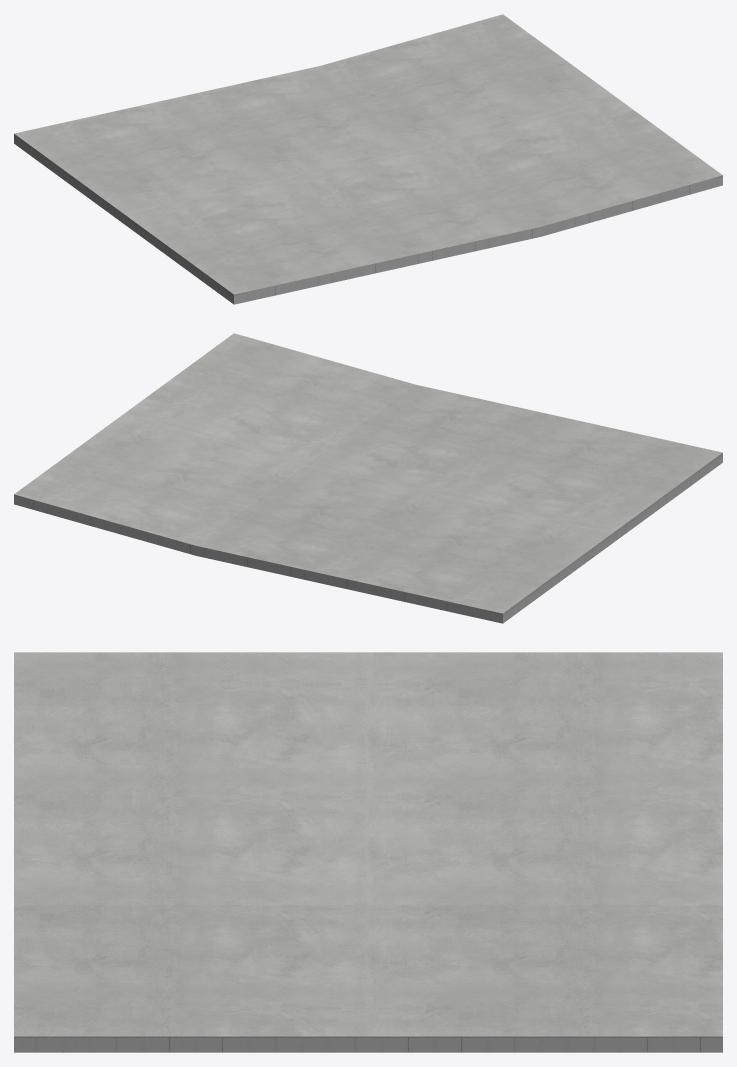
The model's file is PD1-ROOF.glb.
3 renders of one model, top to bottom at view 1: azimuth 30°, elevation 25°; view 2: azimuth 150°, elevation 25°; view 3: azimuth 270°, elevation 25°, orthographic. The views are drawn at different scales.
Visible parts, largest first — view 1: Polyline; view 2: Polyline; view 3: Polyline.
Part boxes in pixels (left/top/right/bottom): Polyline: left=14, top=14, right=722, bottom=304; Polyline: left=14, top=333, right=722, bottom=623; Polyline: left=14, top=652, right=722, bottom=1052.
Bounding box in the file's own units: 68.5 × 2.29 × 53.4.
2 materials, 2 textured.
